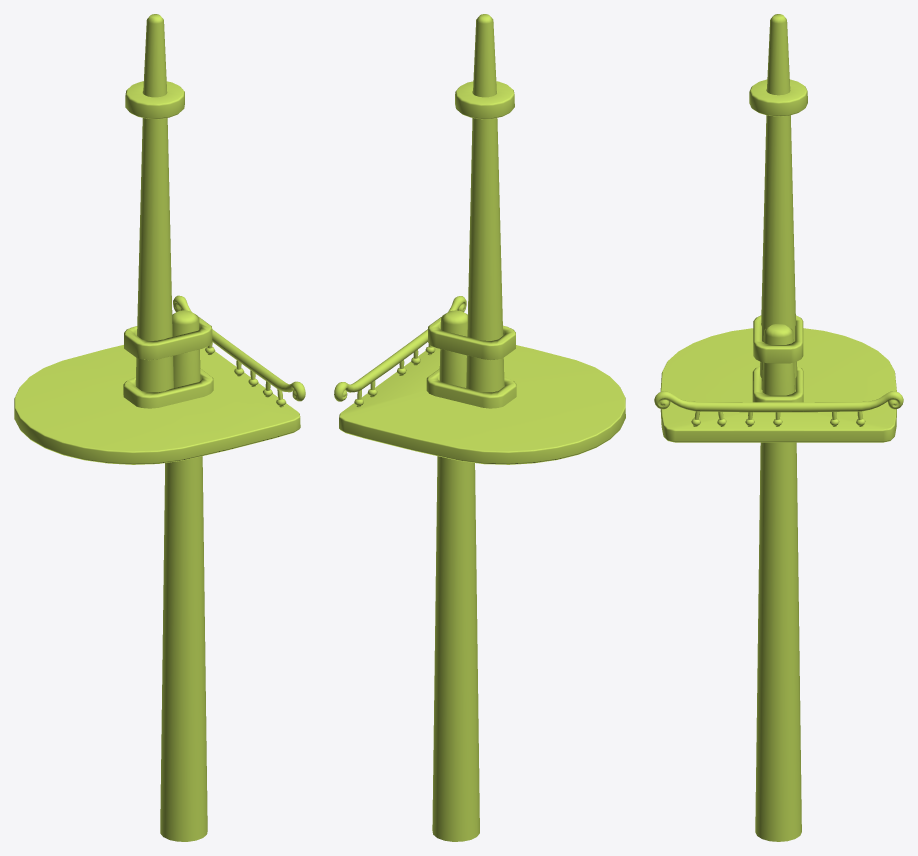
Rendered from Mode_PetitMat.fbx.
The picture shows the model from 3 angles, left to right: view 1: azimuth 30°, elevation 25°; view 2: azimuth 150°, elevation 25°; view 3: azimuth 270°, elevation 25°; orthographic projection. The views are drawn at different scales.
Visible parts, largest first — view 1: nid_pie, mat, part2, pCube276, pCube279, barriere; view 2: nid_pie, mat, part2, pCube276, pCube279, barriere; view 3: mat, nid_pie, part2, barriere, pCube276, pCube279.
Part boxes in pixels (x1,y1,x2,y2): nid_pie: (14, 345, 300, 464); mat: (160, 310, 207, 841); part2: (125, 14, 184, 392); pCube276: (124, 317, 212, 360); pCube279: (123, 368, 213, 408); barriere: (173, 295, 305, 401); nid_pie: (339, 345, 625, 464); mat: (432, 310, 479, 841); part2: (455, 14, 514, 392); pCube276: (428, 317, 515, 360); pCube279: (426, 369, 516, 408); barriere: (334, 296, 466, 401); mat: (755, 323, 801, 841); nid_pie: (660, 328, 896, 442); part2: (749, 14, 807, 389); barriere: (654, 391, 903, 412); pCube276: (753, 315, 803, 363); pCube279: (752, 366, 803, 402).
Bounding box in the file's own units: 669 × 2422 × 683.
